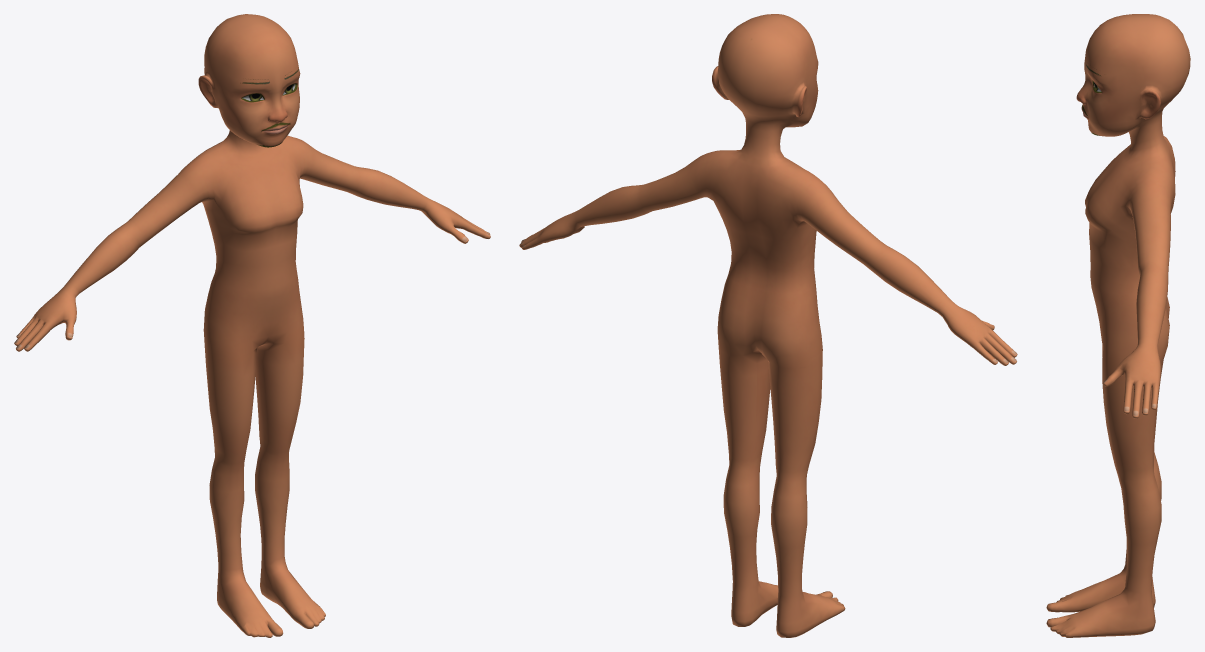
Rendered from frame_0010.glb.
3 renders of one model, left to right at view 1: azimuth 30°, elevation 25°; view 2: azimuth 150°, elevation 25°; view 3: azimuth 270°, elevation 25°, orthographic. The views are drawn at different scales.
Visible parts, largest first — view 1: frame_0010_head_geo; view 2: frame_0010_head_geo; view 3: frame_0010_head_geo.
Part boxes in pixels (left/top/right/bottom): frame_0010_head_geo: left=14, top=14, right=490, bottom=637; frame_0010_head_geo: left=519, top=14, right=1017, bottom=637; frame_0010_head_geo: left=1046, top=14, right=1190, bottom=637.
Bounding box in the file's own units: 1.28 × 1.5 × 0.3253.
Materials: 3 (3 with a texture image).
